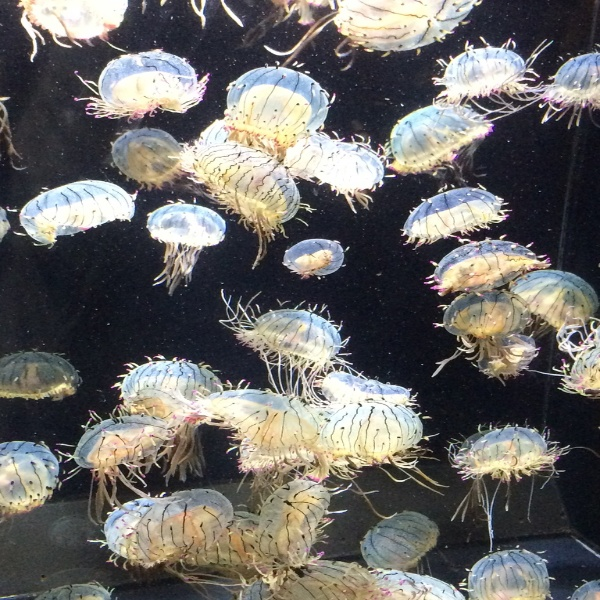Jellyfish: (0, 0, 599, 599), (443, 34, 555, 109)
